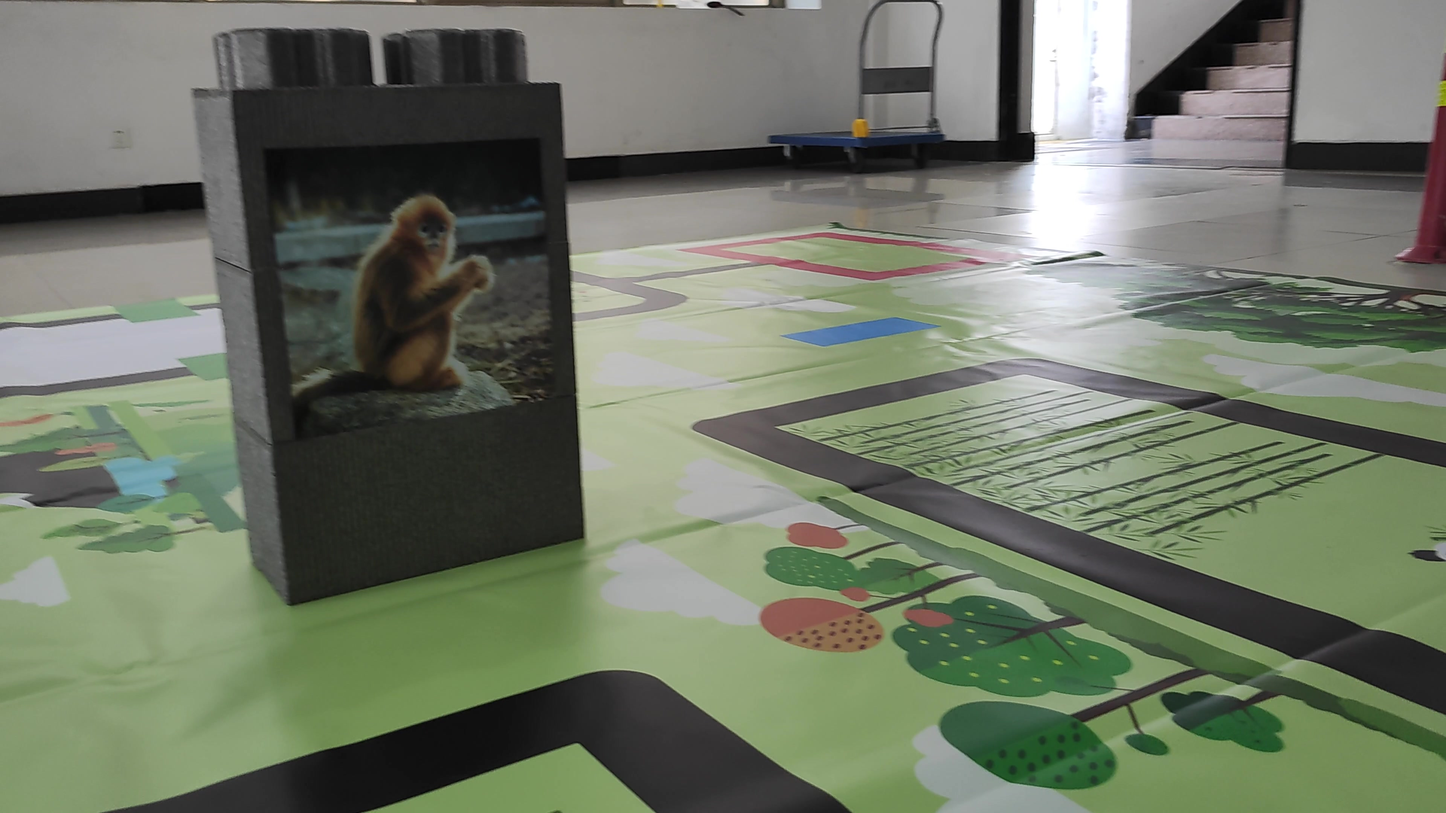monkey: (279, 187, 520, 420)
